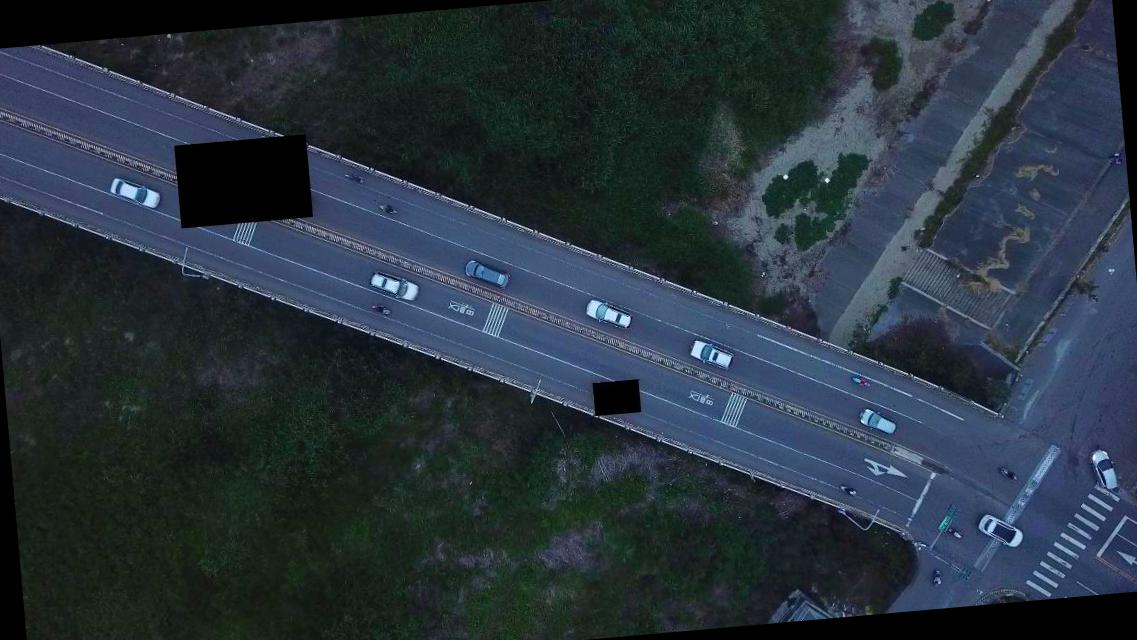vehicle: (107, 175, 162, 212), (369, 268, 420, 307), (584, 296, 634, 334), (978, 511, 1024, 551), (687, 336, 735, 374), (464, 256, 512, 294), (1088, 448, 1120, 491), (856, 405, 898, 437)
